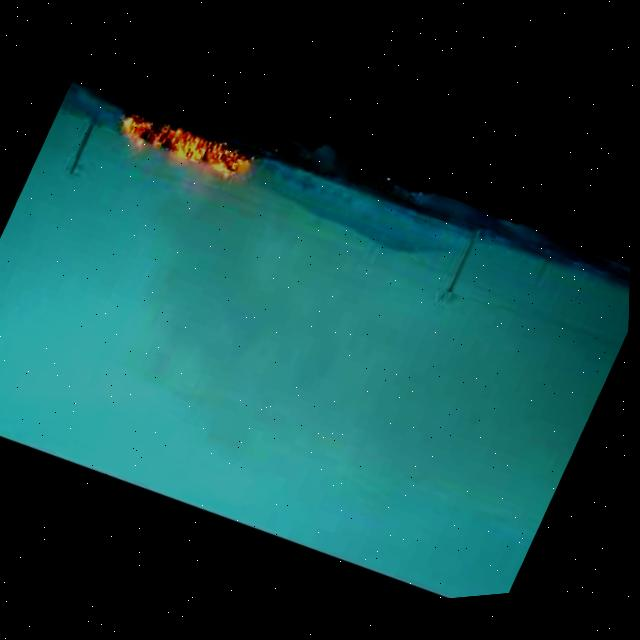Fire: (107, 95, 262, 204)
